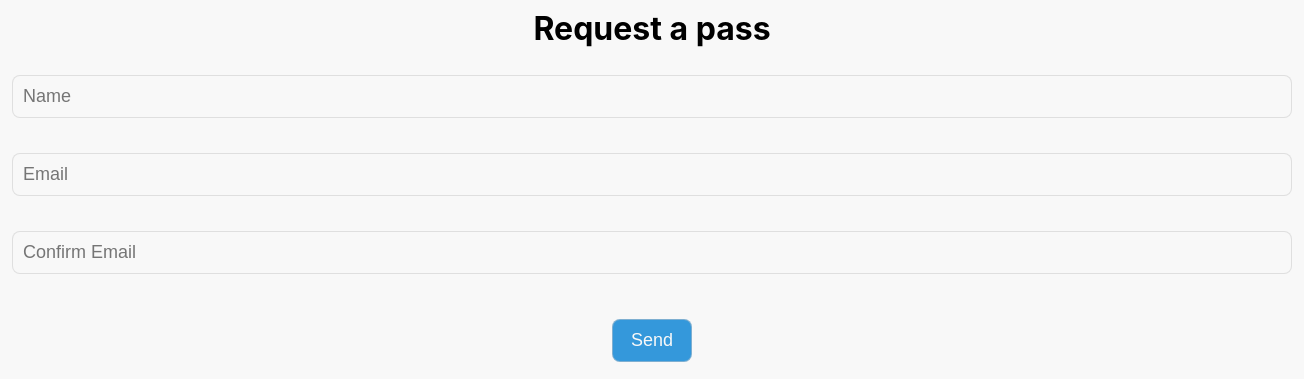
Test: RequestPassForm › Email mismatch will result an error
The width and height of the screenshot is (1304, 379).
In the field labelled "Email": (652, 174) x1=12 y1=153 x2=1292 y2=196, type "x@x.com"
Then press Enter
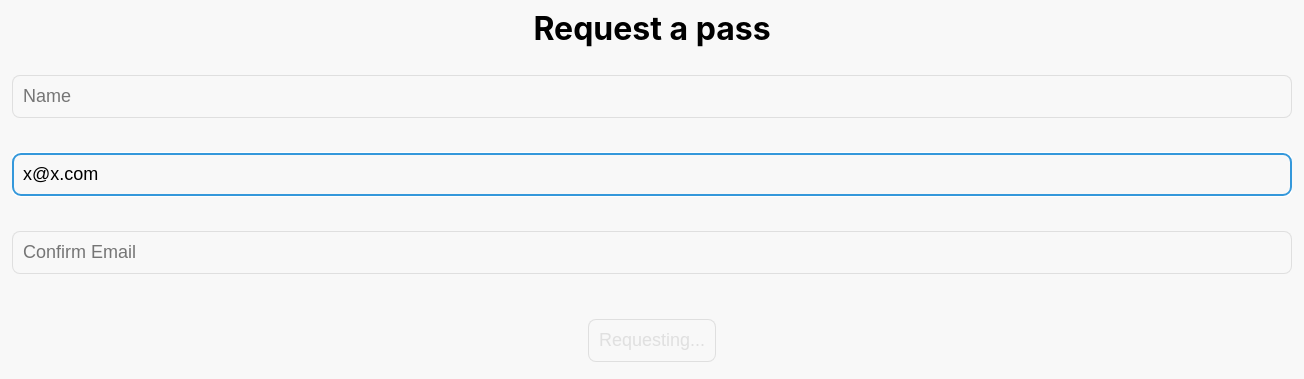
In the field labelled "Confirm Email": (652, 252) x1=12 y1=231 x2=1292 y2=274, type "x@y.com"
Then press Enter
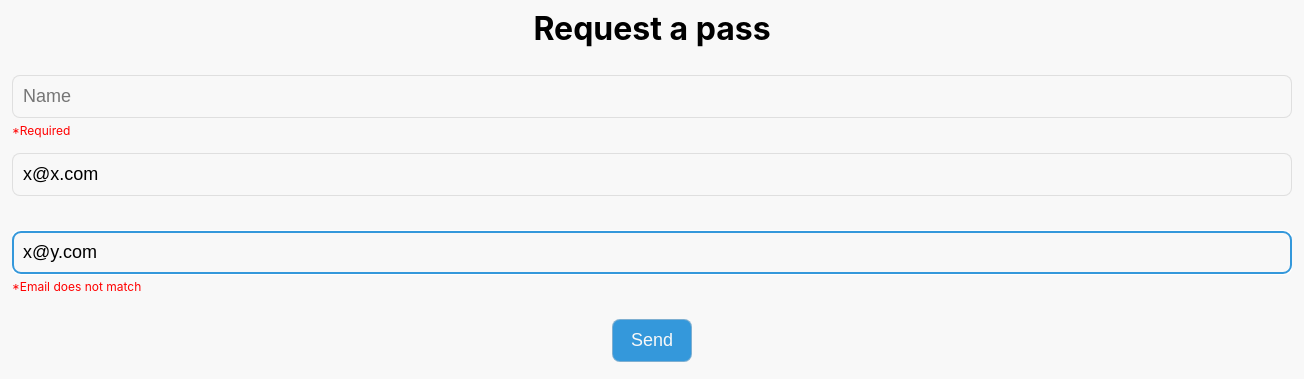
Now the text "*Email does not match" is shown, box x1=12 y1=279 x2=141 y2=294
